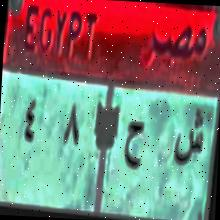4: (19, 95, 40, 153)
7aa: (120, 116, 145, 177)
8: (61, 102, 82, 157)
sheen: (169, 102, 207, 172)
